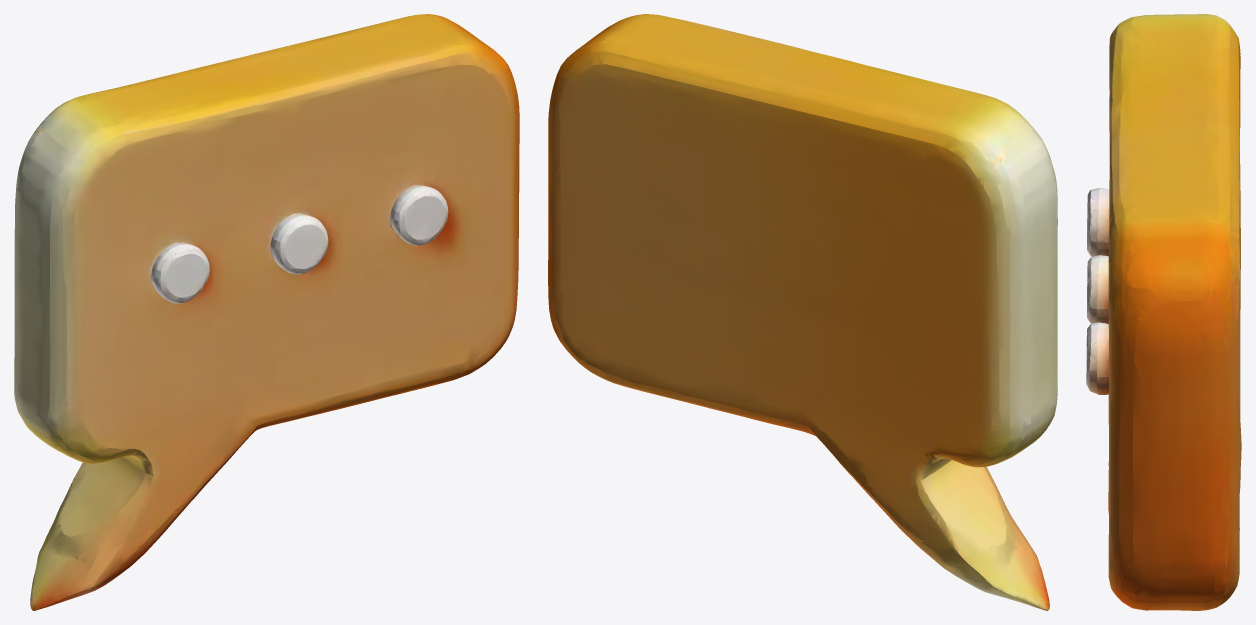
File: ContactOP.glb
3 renders of one model, left to right at view 1: azimuth 30°, elevation 25°; view 2: azimuth 150°, elevation 25°; view 3: azimuth 270°, elevation 25°, orthographic. The views are drawn at different scales.
Parts seen in each view (by area): view 1: world; view 2: world; view 3: world.
Part boxes in pixels (<box>): world: <box>14,14,519,610</box>; world: <box>548,14,1057,610</box>; world: <box>1086,14,1241,610</box>.
Bounding box in the file's own units: 1 × 0.9632 × 0.244.
Materials: 1 (1 with a texture image).
